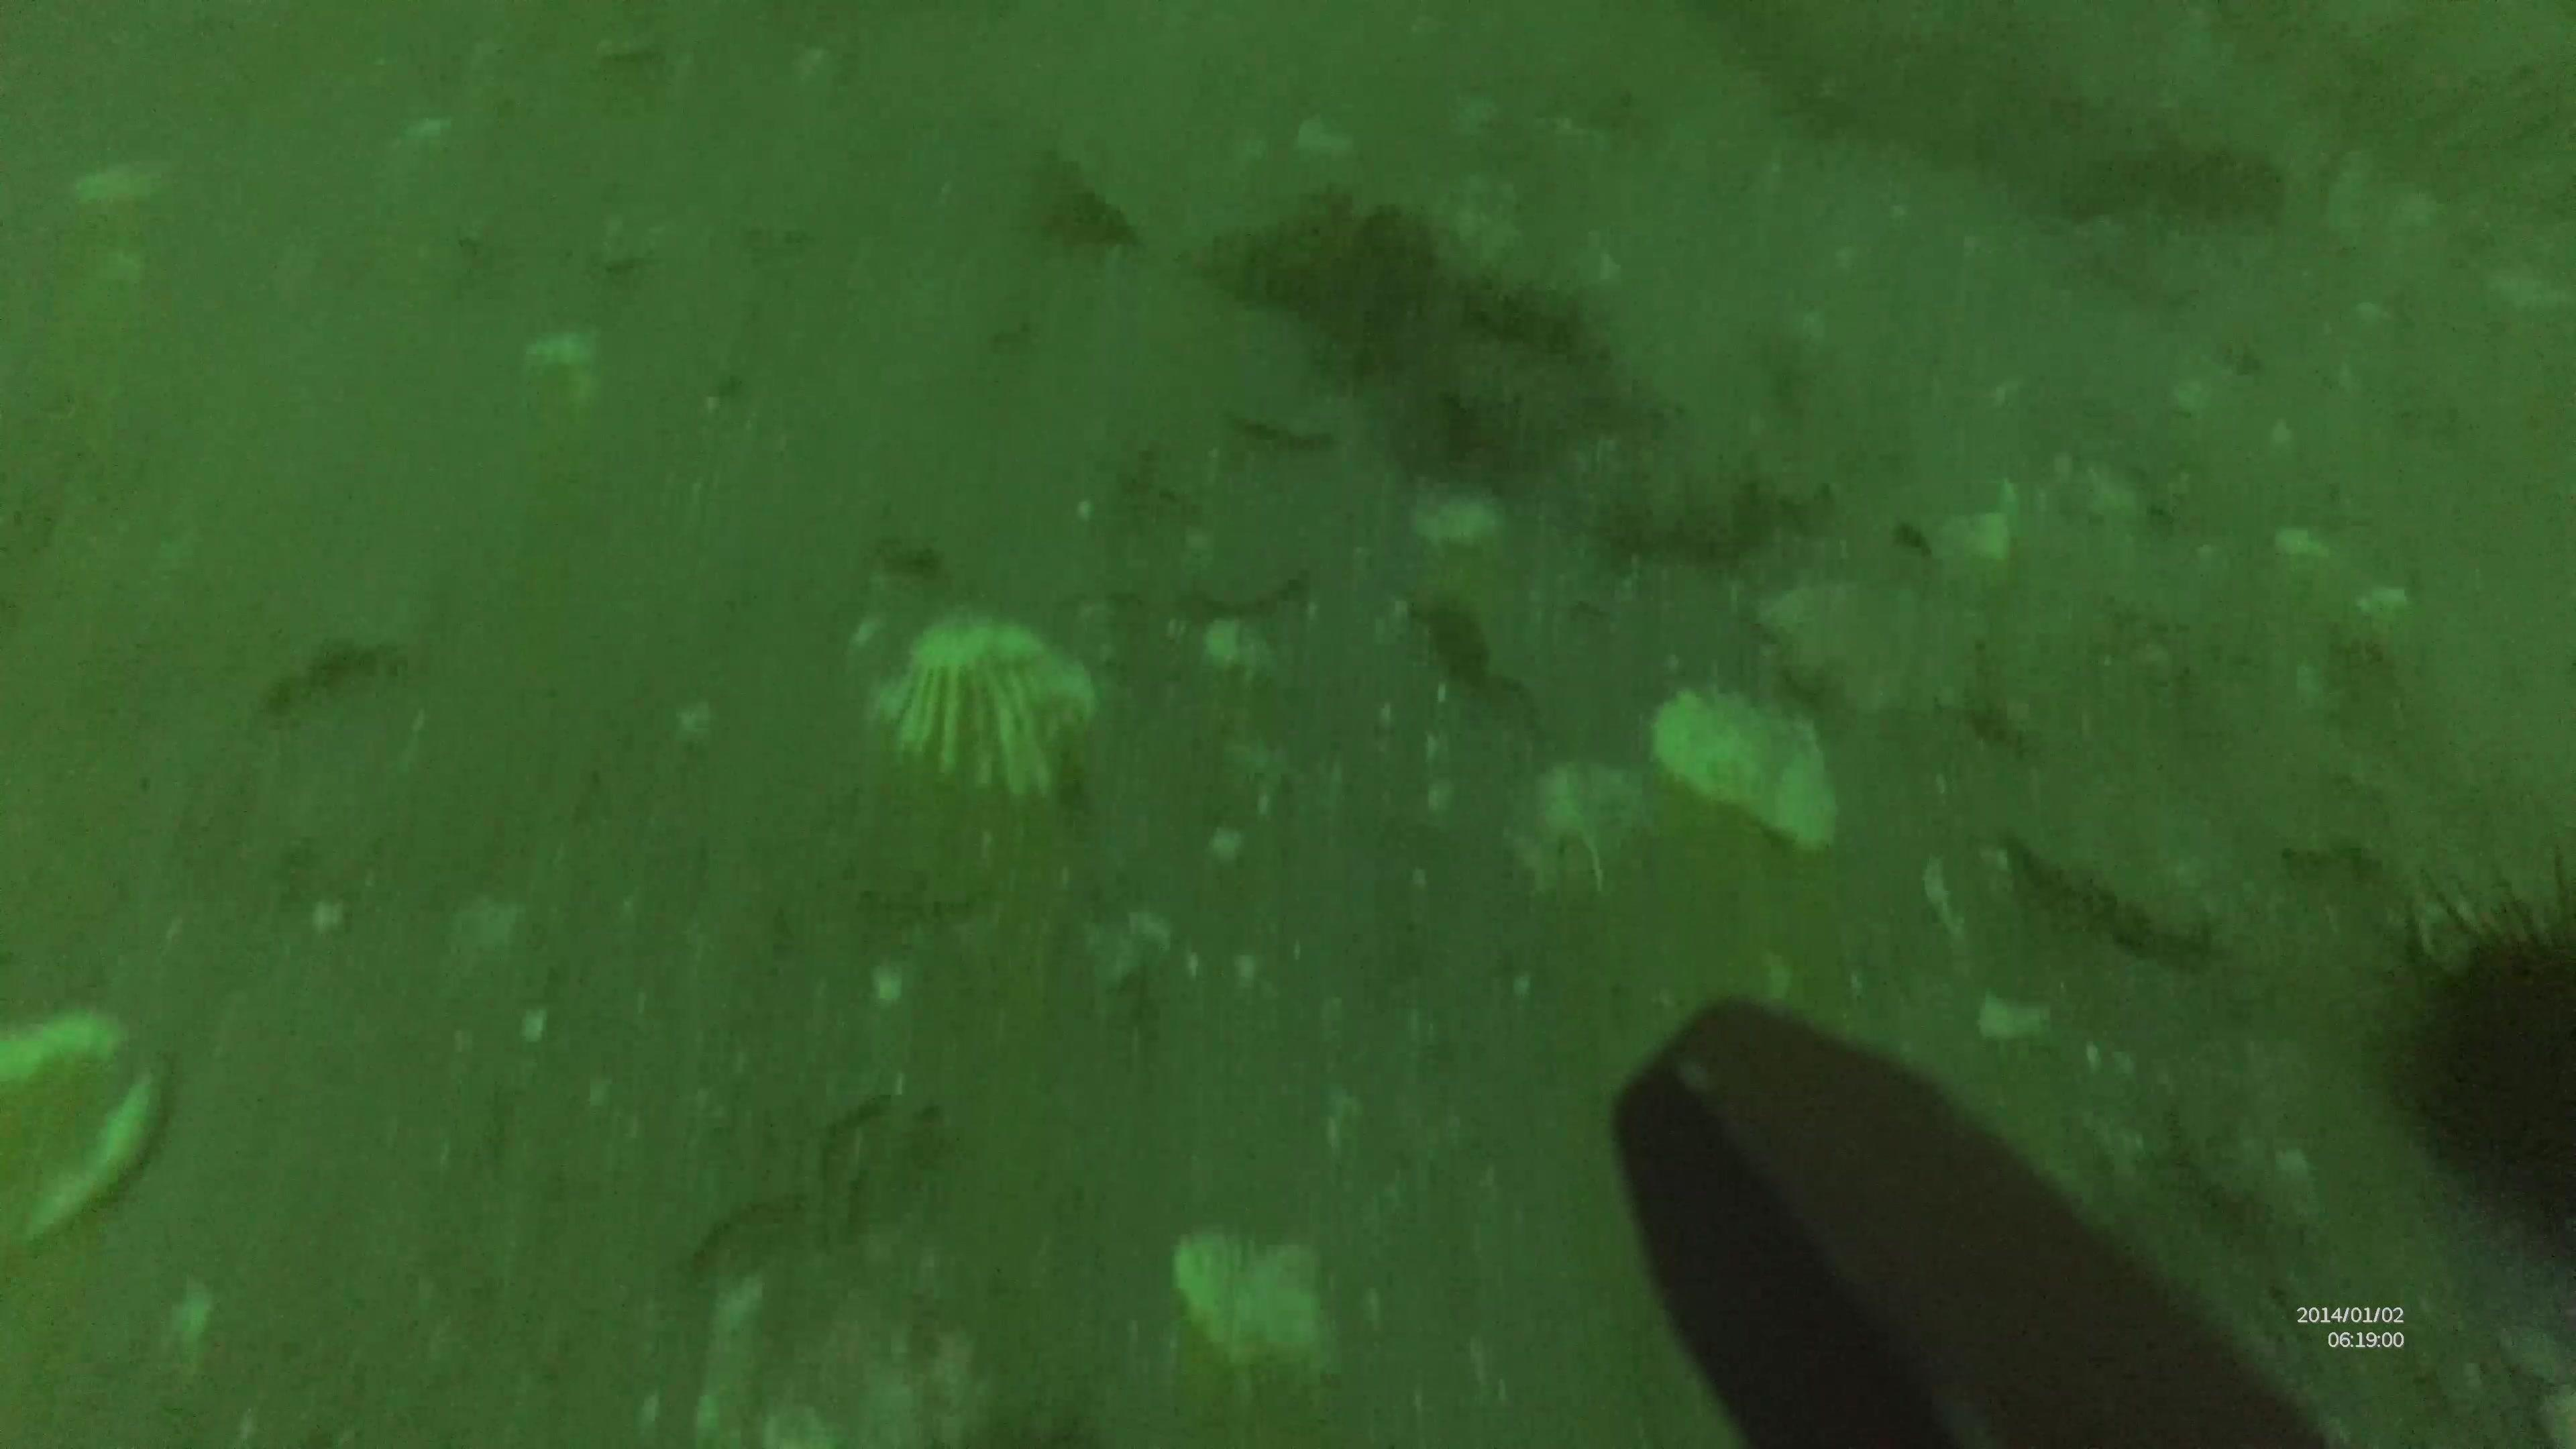echinus: (2383, 855, 2576, 1274)
scallop: (853, 593, 1100, 809)
